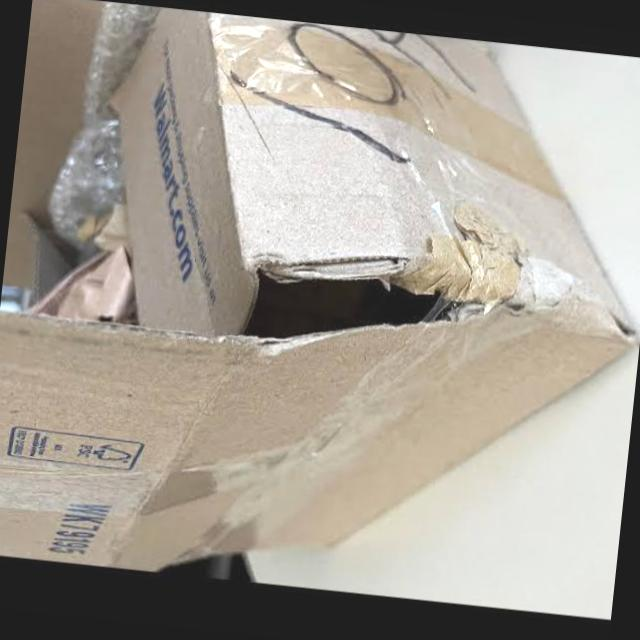package_damage: (166, 195, 640, 382)
